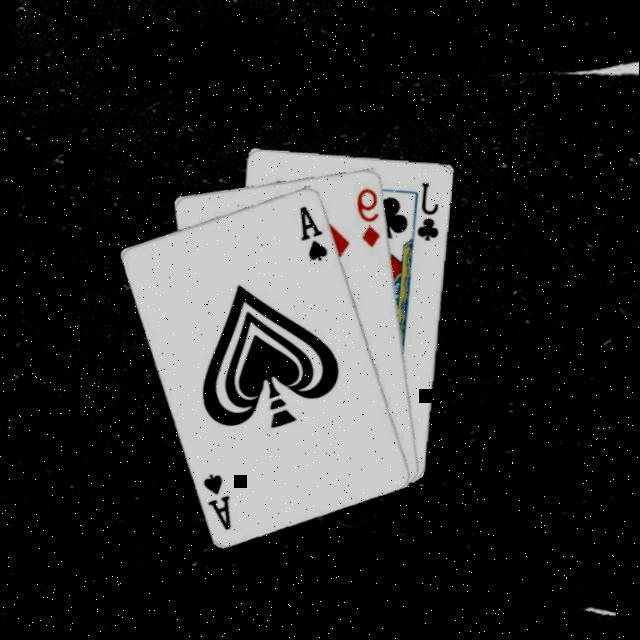9D: (351, 182, 387, 249)
AS: (197, 467, 239, 531), (294, 200, 334, 262)
JC: (414, 176, 446, 241)
